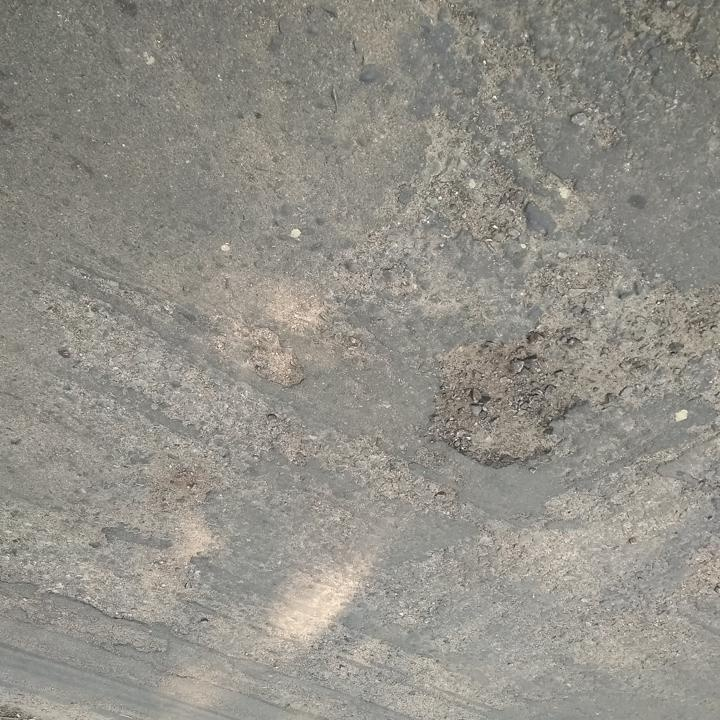pothole: (419, 341, 583, 472), (406, 111, 532, 246), (245, 327, 308, 390)
